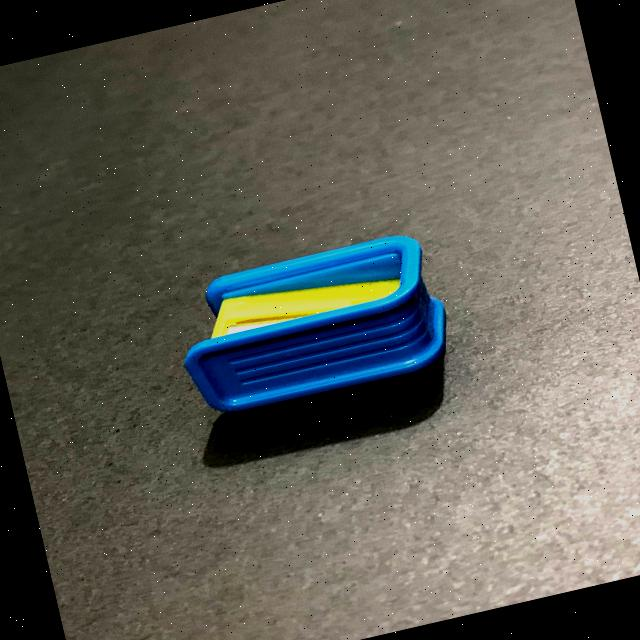Sharpner: (129, 201, 489, 448)
